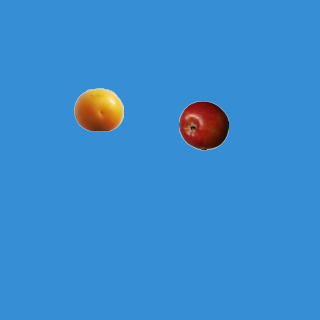Apple Braeburn: (178, 100, 228, 150)
Cherry Wax Yellow: (73, 84, 123, 134)
